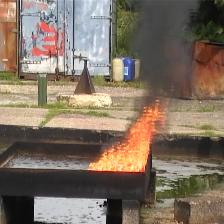fire: (91, 97, 159, 171)
smoke: (138, 2, 188, 91)
